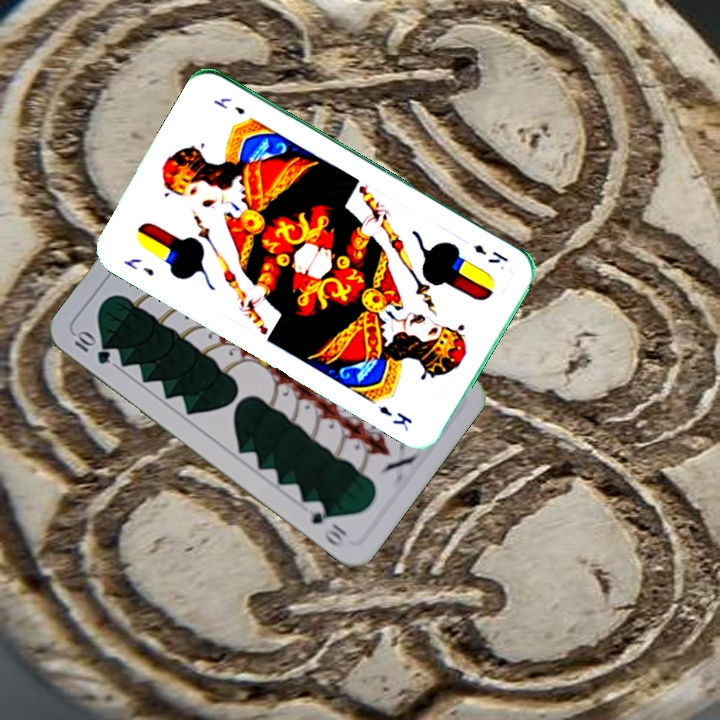EK: (468, 240, 510, 266), (120, 254, 157, 279)
G10: (70, 327, 113, 367)
